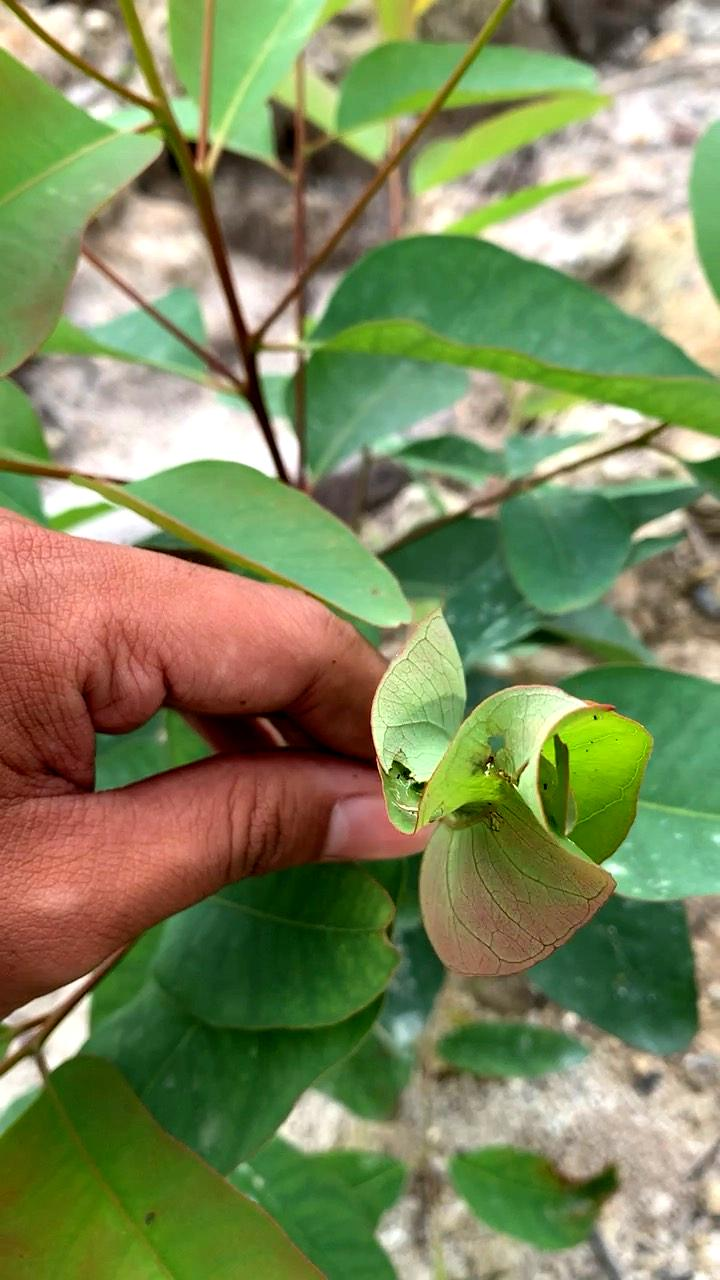Leaf Roller - Leaf: (346, 573, 673, 1014)
